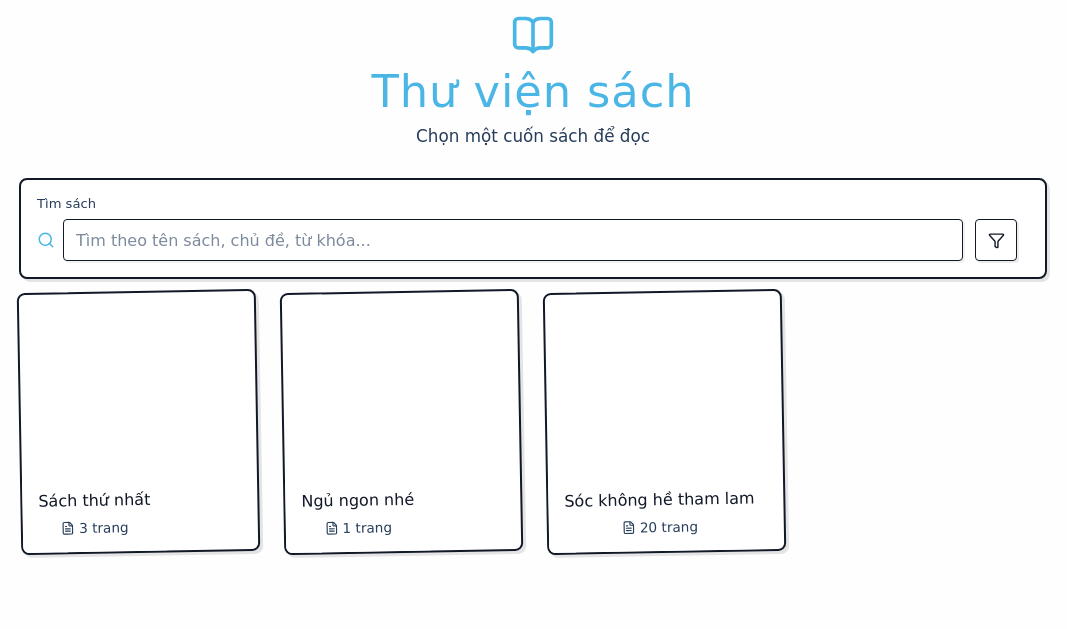
Test: BookListPage › searches book keywords as primary results
Type "chia sẻ" into the search field labelled "Tìm sách" at (513, 240), box [63,219,963,261]
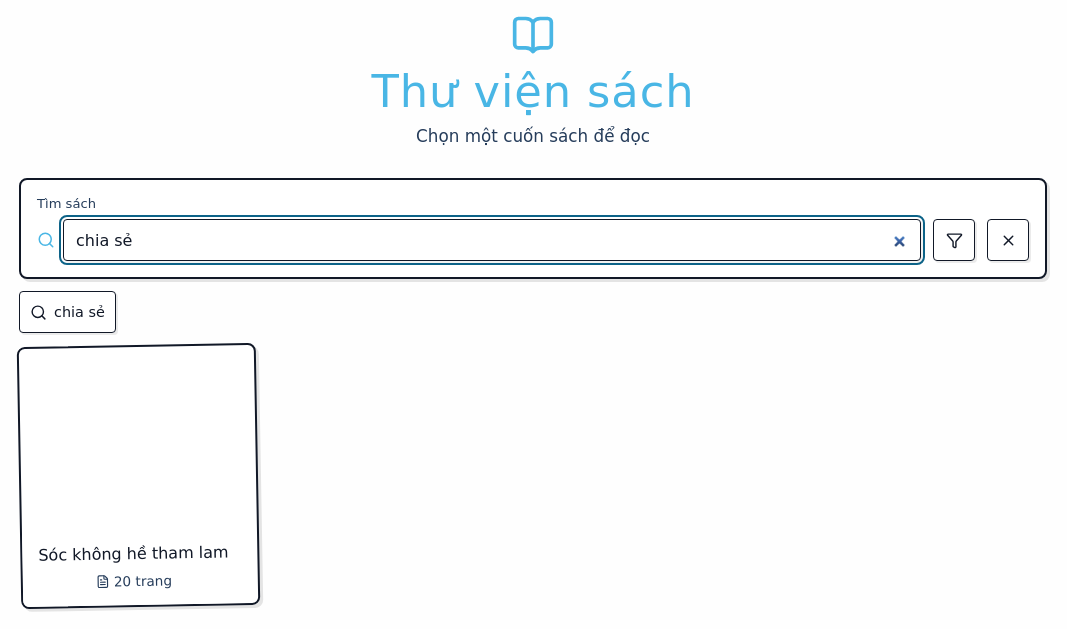
Expected: the text "Sóc không hề tham lam" is shown, [38,541,229,566]
Result: the button "Sách thứ nhất" is gone
Result: the button "Ngủ ngon nhé" is gone
